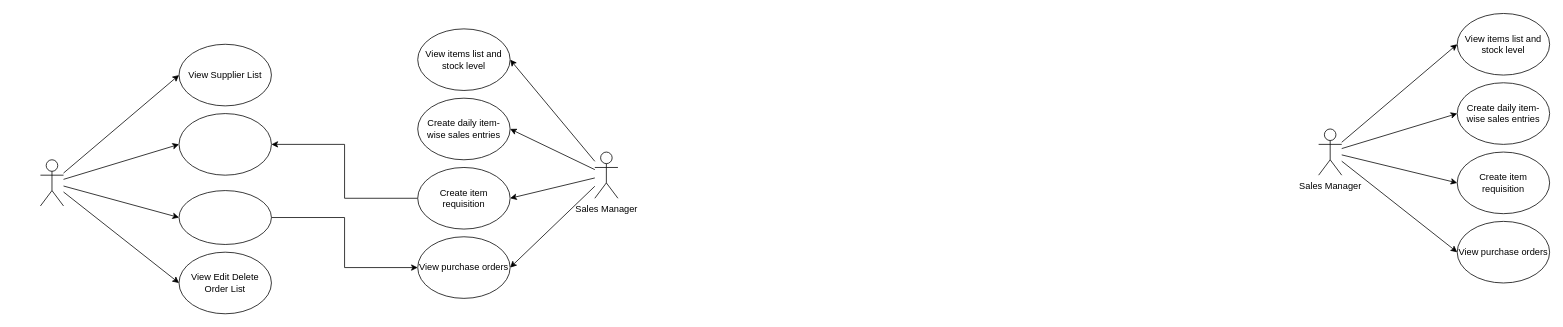
Some shapes in this 1563 by 327 pixel diagram are drawn without their labels. The centre of each missing label's shape, as x and y in pixels:
"Create Purchase Order" belongs at (224,217).
"Purchase Manager" belongs at (52,182).
"View Requisition" belongs at (224,144).
